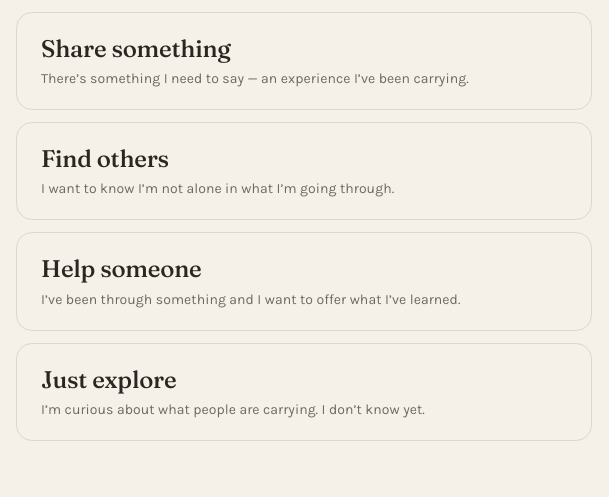
Test: IntentSelector › shows a navigation hint when an intent is selected
The image size is (609, 497).
What coordinates should you click on to do the following:
click the button "Share something"
I would click on:
 (136, 48)
Its box is [16,12,592,110].
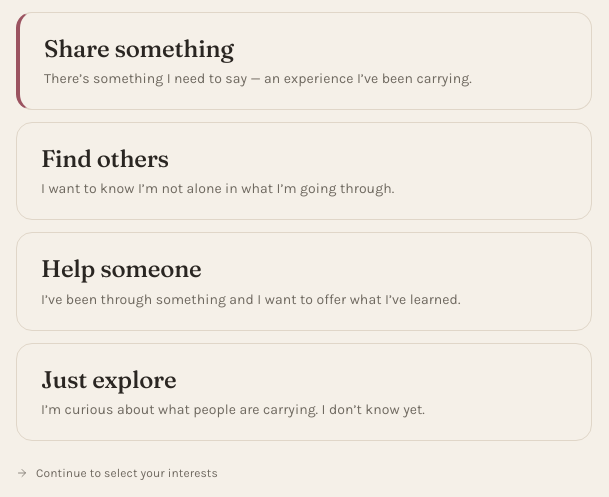
Now the text "Continue to select your interests" is shown, box [16,466,218,480]
